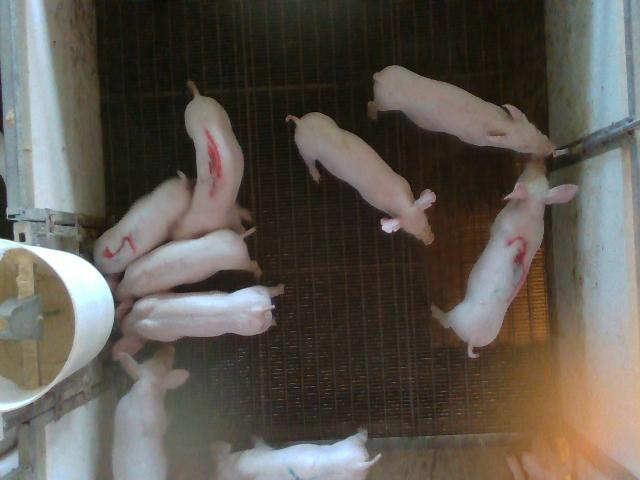pig-1: (172, 82, 250, 239)
pig-3: (431, 158, 578, 358)
pig-5: (95, 171, 192, 274)
